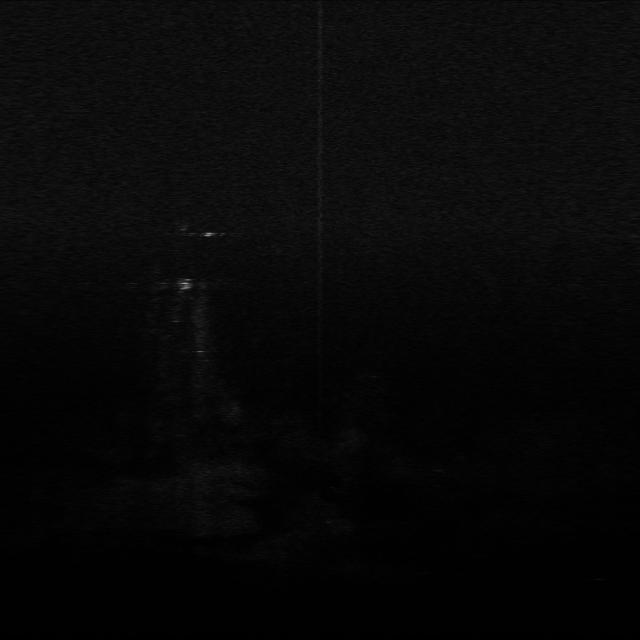rov: (174, 278, 197, 292)
